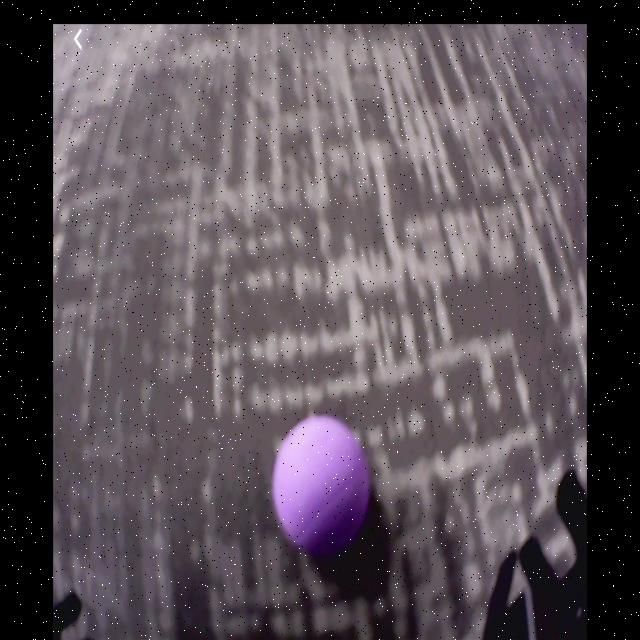ball: (274, 414, 369, 552)
